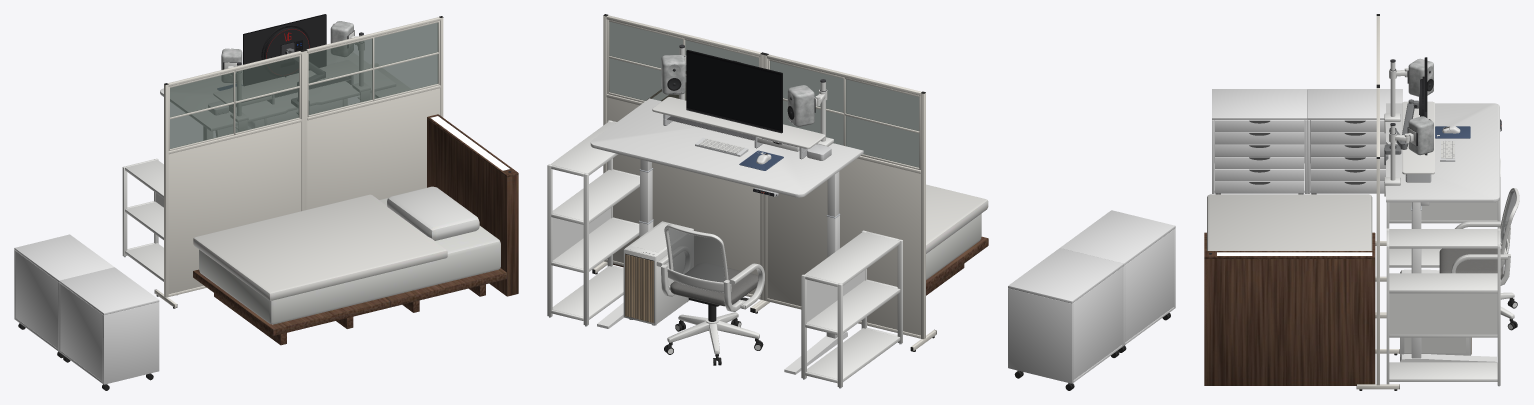
File: furniture.glb
The picture shows the model from 3 angles, left to right: view 1: azimuth 30°, elevation 25°; view 2: azimuth 150°, elevation 25°; view 3: azimuth 270°, elevation 25°; orthographic projection. The views are drawn at different scales.
Visible parts, largest first — view 1: Tinwood_partition_1200_stand001 (×2), Tinwood_partition_1200_stand001_4 (×2), IKEA_ALEX_drawer_unit_on_castors_white001 (×2), LESS_bed_SS_walnut_head001_6, LESS_bed_SS_walnut_head001_5, LESS_bed_SS_walnut_head001_2, FlexiSpot_E7_PRO_motion_desk_1600x800_top001_1, LESS_bed_SS_walnut_head001_1, LG_UltraGear_32GP850001, LESS_bed_SS_walnut_head001_7, Quattro_shelf_800_2tier001_1, LESS_bed_SS_walnut_head001 (+6 smaller); view 2: Tinwood_partition_1200_stand001 (×2), IKEA_ALEX_drawer_unit_on_castors_white001 (×2), Tinwood_partition_1200_stand001_4 (×2), FlexiSpot_E7_PRO_motion_desk_1600x800_top001_1, Quattro_shelf_800_3tier001_1, Quattro_shelf_800_2tier001_1, LG_UltraGear_32GP850001_2, LEANBACK_mesh_office_chair001, Fractal_North_XL_chalk_white_mesh001, Quattro_shelf_800_3tier001, Quattro_shelf_800_2tier001, LESS_bed_SS_walnut_head001_6 (+15 smaller); view 3: LESS_bed_SS_walnut_head001_2, IKEA_ALEX_drawer_unit_on_castors_white001 (×2), Quattro_shelf_800_3tier001_1, LESS_bed_SS_walnut_head001_6, FlexiSpot_E7_PRO_motion_desk_1600x800_top001_1, Quattro_shelf_800_2tier001_1, Tinwood_partition_1200_stand001 (×2), LEANBACK_mesh_office_chair001, Genelec_G_Two_RAW_speaker_arms001, LEANBACK_mesh_office_chair001_1, Genelec_G_Two_RAW_speaker_arms001_5, Quattro_shelf_800_3tier001 (+11 smaller).
Boxes of the visible parts, <box> form: Tinwood_partition_1200_stand001 (×2): <box>155,17,443,307</box>; Tinwood_partition_1200_stand001_4 (×2): <box>170,22,438,148</box>; IKEA_ALEX_drawer_unit_on_castors_white001 (×2): <box>14,234,159,384</box>; LESS_bed_SS_walnut_head001_6: <box>193,194,447,300</box>; LESS_bed_SS_walnut_head001_5: <box>199,198,500,324</box>; LESS_bed_SS_walnut_head001_2: <box>427,119,518,296</box>; FlexiSpot_E7_PRO_motion_desk_1600x800_top001_1: <box>160,49,395,131</box>; LESS_bed_SS_walnut_head001_1: <box>193,115,518,345</box>; LG_UltraGear_32GP850001: <box>243,14,326,85</box>; LESS_bed_SS_walnut_head001_7: <box>387,186,479,240</box>; Quattro_shelf_800_2tier001_1: <box>125,159,163,281</box>; LESS_bed_SS_walnut_head001: <box>193,114,517,344</box>; Tinwood_partition_1200_stand001 (×2): <box>593,15,936,351</box>; IKEA_ALEX_drawer_unit_on_castors_white001 (×2): <box>1008,210,1175,383</box>; Tinwood_partition_1200_stand001_4 (×2): <box>609,22,919,167</box>; FlexiSpot_E7_PRO_motion_desk_1600x800_top001_1: <box>590,98,863,197</box>; Quattro_shelf_800_3tier001_1: <box>550,121,639,319</box>; Quattro_shelf_800_2tier001_1: <box>804,232,900,381</box>; LG_UltraGear_32GP850001_2: <box>687,52,780,129</box>; LEANBACK_mesh_office_chair001: <box>656,224,764,364</box>; Fractal_North_XL_chalk_white_mesh001: <box>623,221,693,325</box>; Quattro_shelf_800_3tier001: <box>547,120,639,325</box>; Quattro_shelf_800_2tier001: <box>801,230,902,387</box>; LESS_bed_SS_walnut_head001_6: <box>926,184,988,253</box>; LESS_bed_SS_walnut_head001_2: <box>1204,259,1375,385</box>; IKEA_ALEX_drawer_unit_on_castors_white001 (×2): <box>1212,89,1402,193</box>; Quattro_shelf_800_3tier001_1: <box>1389,229,1497,381</box>; LESS_bed_SS_walnut_head001_6: <box>1207,194,1372,250</box>; FlexiSpot_E7_PRO_motion_desk_1600x800_top001_1: <box>1386,103,1499,202</box>; Quattro_shelf_800_2tier001_1: <box>1389,201,1497,267</box>; Tinwood_partition_1200_stand001 (×2): <box>1357,16,1399,389</box>; LEANBACK_mesh_office_chair001: <box>1451,188,1519,329</box>; Genelec_G_Two_RAW_speaker_arms001: <box>1408,58,1433,155</box>; LEANBACK_mesh_office_chair001_1: <box>1439,248,1503,278</box>; Genelec_G_Two_RAW_speaker_arms001_5: <box>1384,62,1416,196</box>; Quattro_shelf_800_3tier001: <box>1386,228,1500,385</box>.
Bounding box in the file's own units: 3.6 × 1.87 × 2.21.
Materials: 96 (12 with a texture image).
